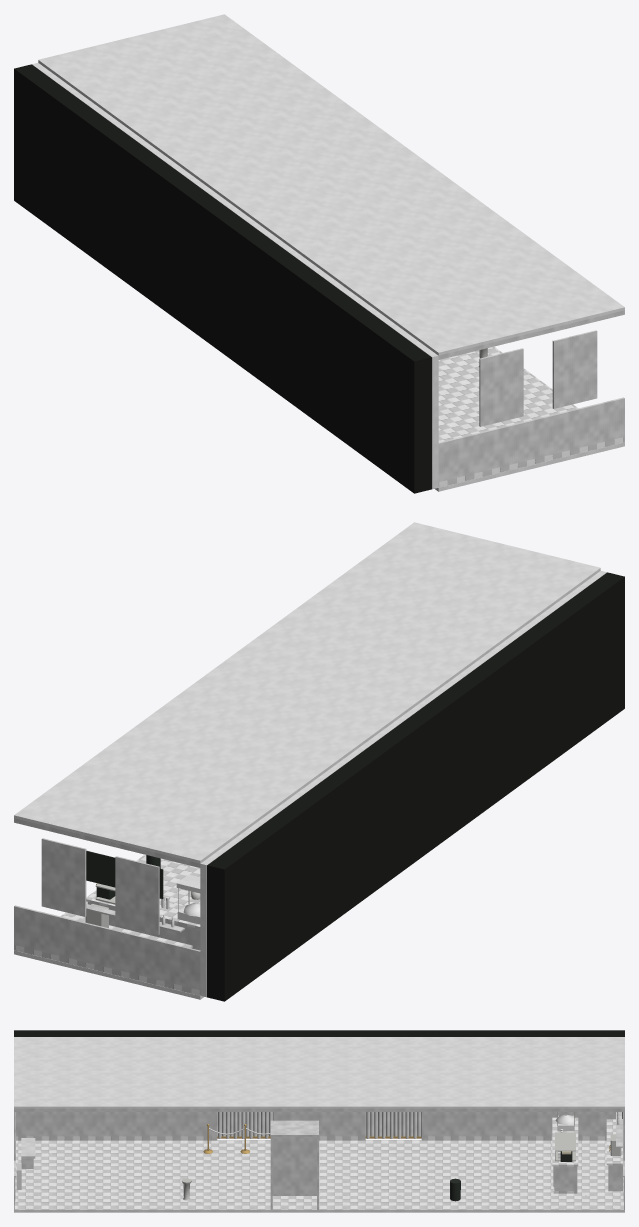
Rendered from SM_Town_Cinema_Interior.glb.
3 renders of one model, top to bottom at view 1: azimuth 30°, elevation 25°; view 2: azimuth 150°, elevation 25°; view 3: azimuth 270°, elevation 25°, orthographic. The views are drawn at different scales.
Visible parts, largest first — view 1: SM_Town_Cinema_Interior; view 2: SM_Town_Cinema_Interior; view 3: SM_Town_Cinema_Interior.
Part boxes in pixels (box(x1,y1,x2,y2)): SM_Town_Cinema_Interior: box(14, 14, 624, 493); SM_Town_Cinema_Interior: box(14, 522, 624, 1001); SM_Town_Cinema_Interior: box(14, 1030, 624, 1212).
Size of the model in its own units: 6.01 by 3.79 by 19.78.
22 materials, 16 textured.
